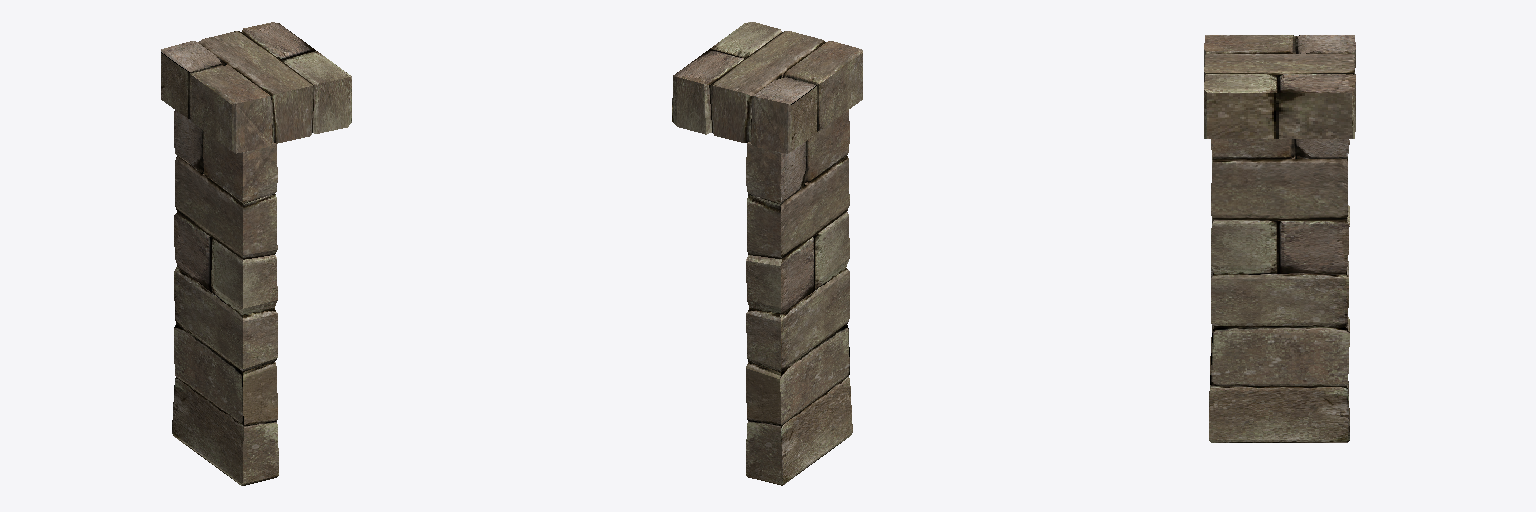
3 views of the same model, side by side, from view 1: azimuth 30°, elevation 25°; view 2: azimuth 150°, elevation 25°; view 3: azimuth 270°, elevation 25° (orthographic).
Parts seen in each view (by area): view 1: Box001, Box002; view 2: Box001, Box002; view 3: Box001, Box002.
Boxes of the visible parts, box(x1,y1,x2,y2) form: Box001: box(172, 110, 278, 485); Box002: box(161, 22, 351, 153); Box001: box(746, 110, 852, 485); Box002: box(672, 22, 862, 153); Box001: box(1209, 139, 1349, 442); Box002: box(1204, 35, 1355, 138).
Size of the model in its own units: 0.6751 by 2.1 by 0.7512.
1 materials, 1 textured.